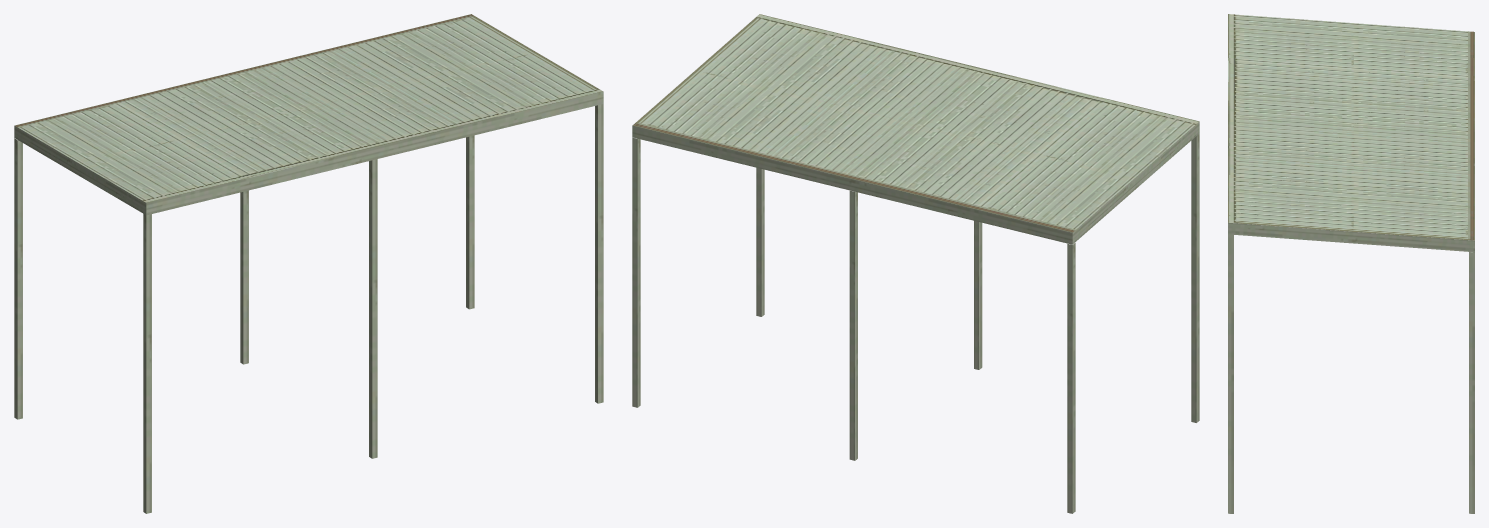
File: shelter-10x5x3-cbj_LOD00.gltf
3 views of the same model, side by side, from view 1: azimuth 30°, elevation 25°; view 2: azimuth 150°, elevation 25°; view 3: azimuth 270°, elevation 25° (orthographic). The views are drawn at different scales.
Visible parts, largest first — view 1: Cube; view 2: Cube; view 3: Cube.
Boxes of the visible parts, x1,y1,x2,y2 form: Cube: (14, 14, 603, 513); Cube: (632, 14, 1199, 513); Cube: (1228, 14, 1474, 513).
Size of the model in its own units: 10 by 6.5 by 5.
